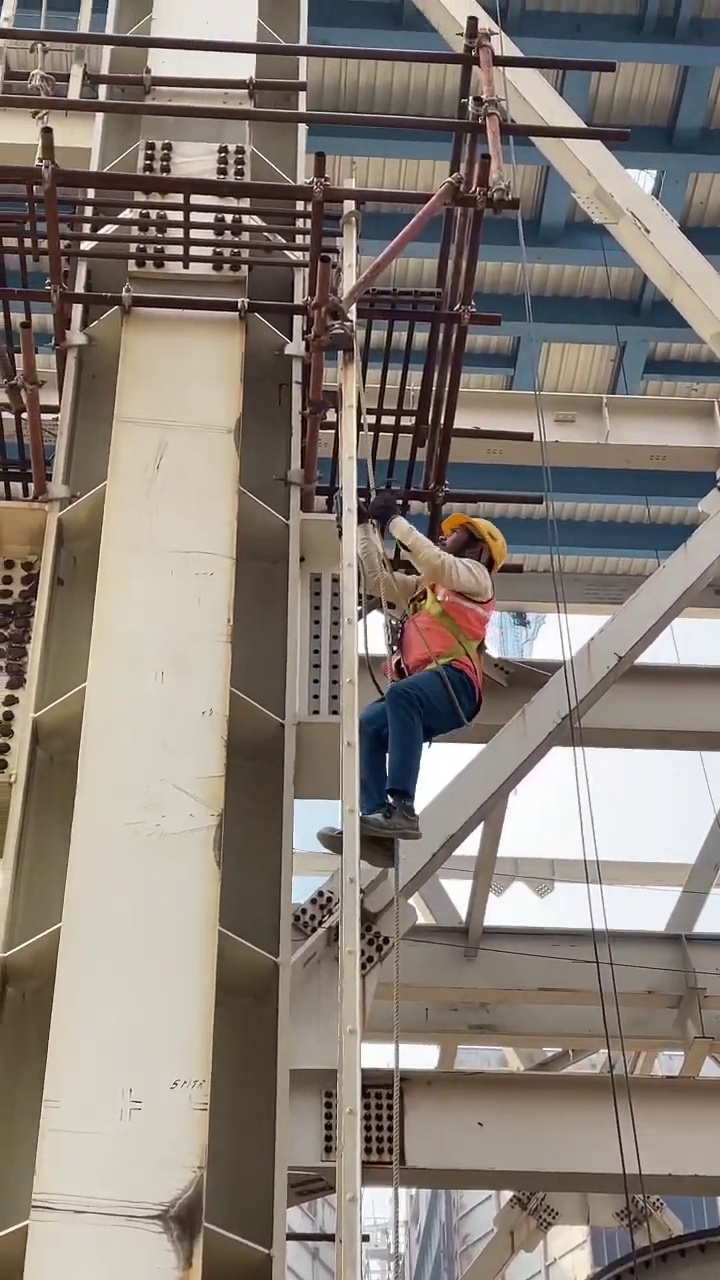Helmet: (439, 514, 507, 566)
Person: (317, 514, 507, 870)
Safety_Harness: (388, 558, 497, 729)
Safety_shoes: (317, 825, 399, 869), (358, 801, 422, 842)
